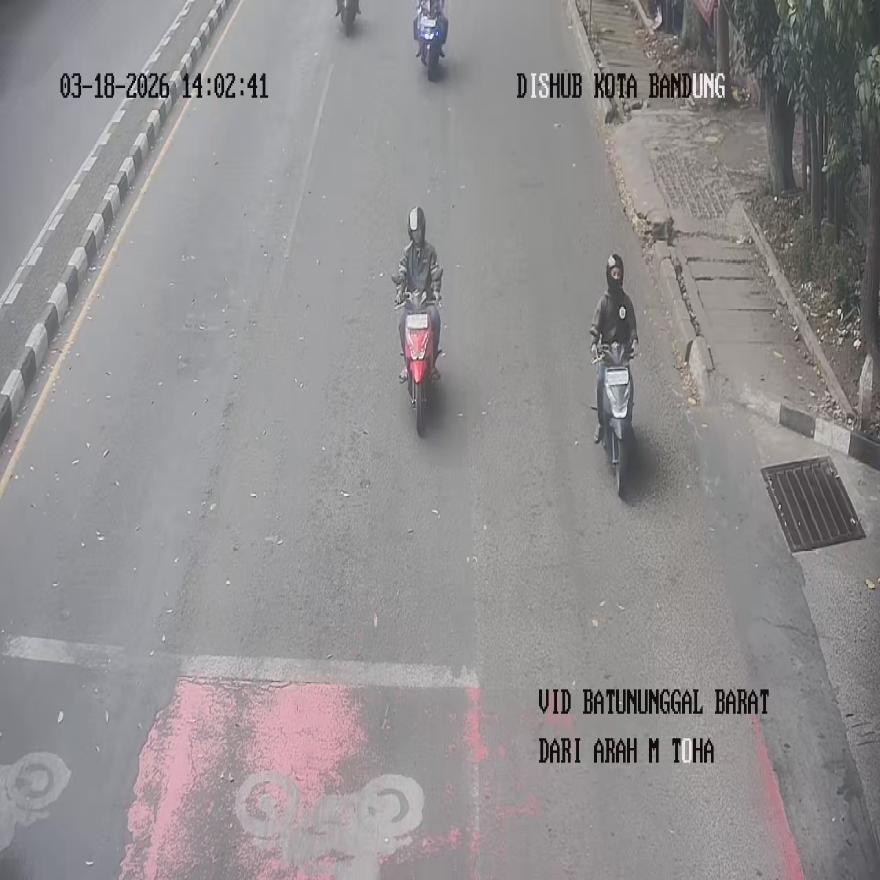Truk: (593, 341, 636, 496), (402, 292, 440, 436), (413, 0, 446, 79), (336, 0, 358, 35)
